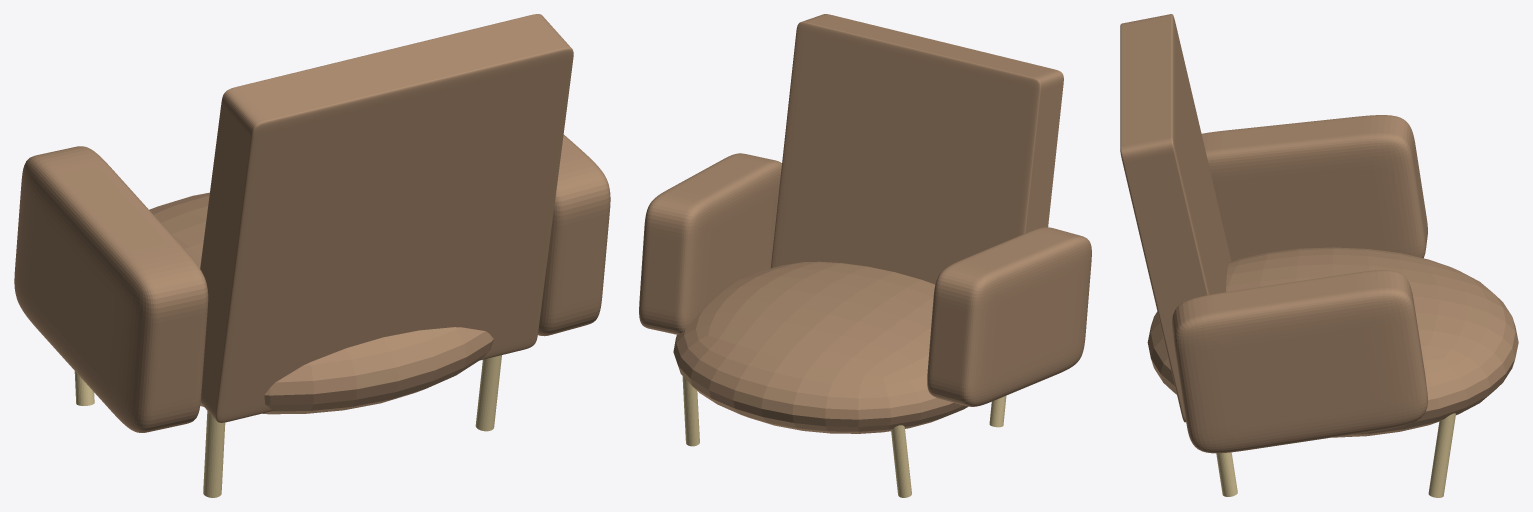
The picture shows the model from 3 angles, left to right: view 1: azimuth 30°, elevation 25°; view 2: azimuth 150°, elevation 25°; view 3: azimuth 270°, elevation 25°; orthographic projection. The views are drawn at different scales.
Visible parts, largest first — view 1: Backrest, Left_Armrest, Seat_Cushion, Right_Armrest, Back_Left_Leg, Back_Right_Leg; view 2: Backrest, Seat_Cushion, Left_Armrest, Right_Armrest, Front_Left_Leg, Front_Right_Leg; view 3: Right_Armrest, Left_Armrest, Backrest, Seat_Cushion, Front_Right_Leg, Back_Right_Leg.
Part boxes in pixels (x1,y1,x2,y2): Backrest: (200,14,573,422); Left_Armrest: (14,146,208,432); Seat_Cushion: (149,192,493,414); Right_Armrest: (538,134,610,336); Back_Left_Leg: (203,411,225,497); Back_Right_Leg: (475,355,501,431); Backrest: (771,14,1063,284); Seat_Cushion: (673,261,967,433); Left_Armrest: (927,227,1091,406); Right_Armrest: (639,153,781,334); Front_Left_Leg: (891,425,911,497); Front_Right_Leg: (682,376,699,446); Right_Armrest: (1172,270,1427,453); Left_Armrest: (1201,115,1427,261); Backrest: (1120,14,1231,422); Seat_Cushion: (1147,247,1518,437); Front_Right_Leg: (1428,413,1455,497); Back_Right_Leg: (1216,452,1237,496).
Size of the model in its own units: 2.04 by 1.81 by 1.8.
